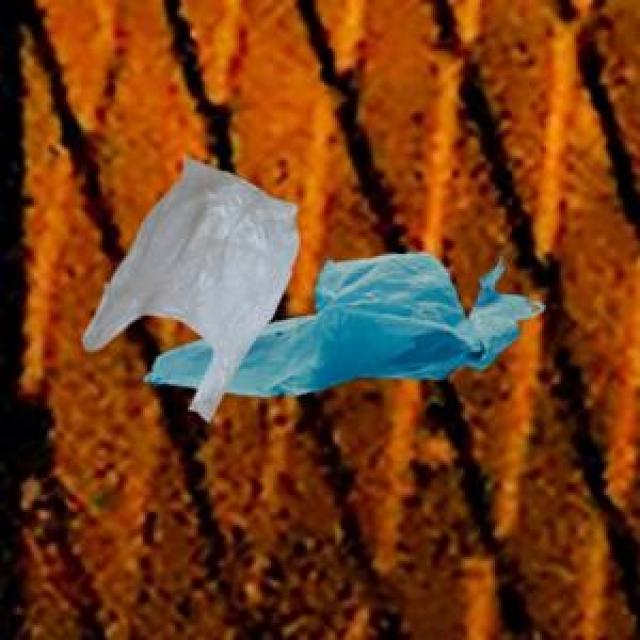waste: (82, 159, 542, 419)
